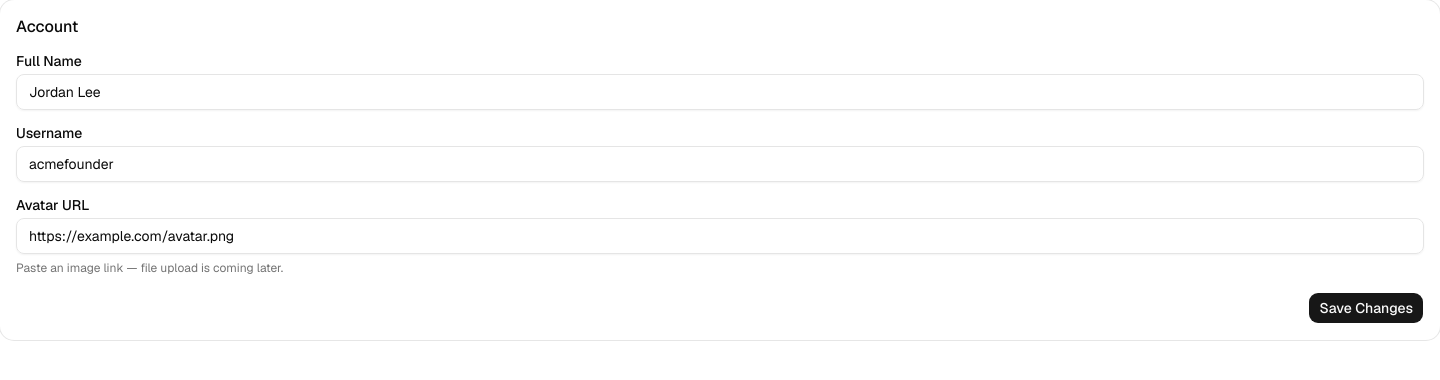
IndustryAccountSettingsForm › validates username format
Replace the text in the field labelled "Username" with "a!" at [720, 164], box [16,146,1424,182]
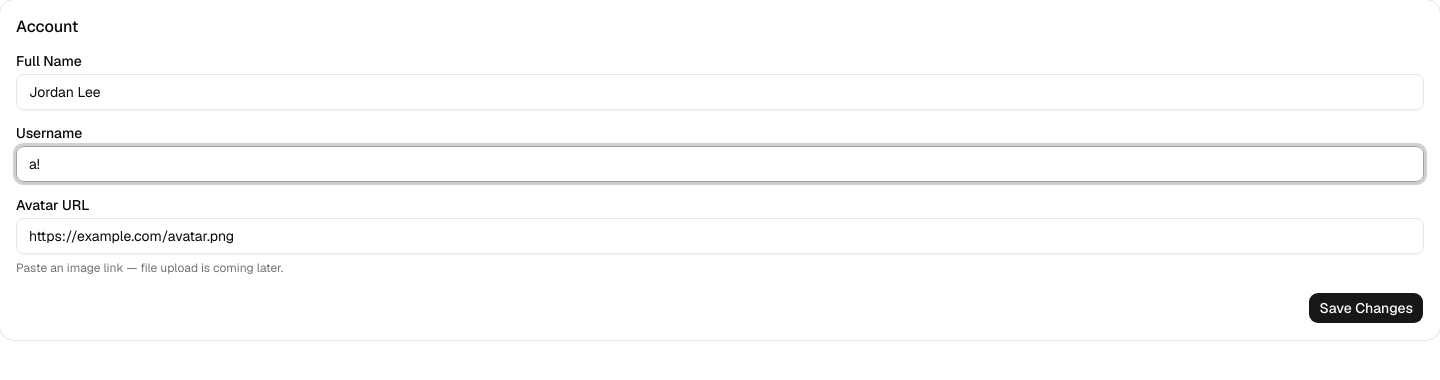
Click the button "Save Changes" at [1366, 308], box [1308,292,1424,324]
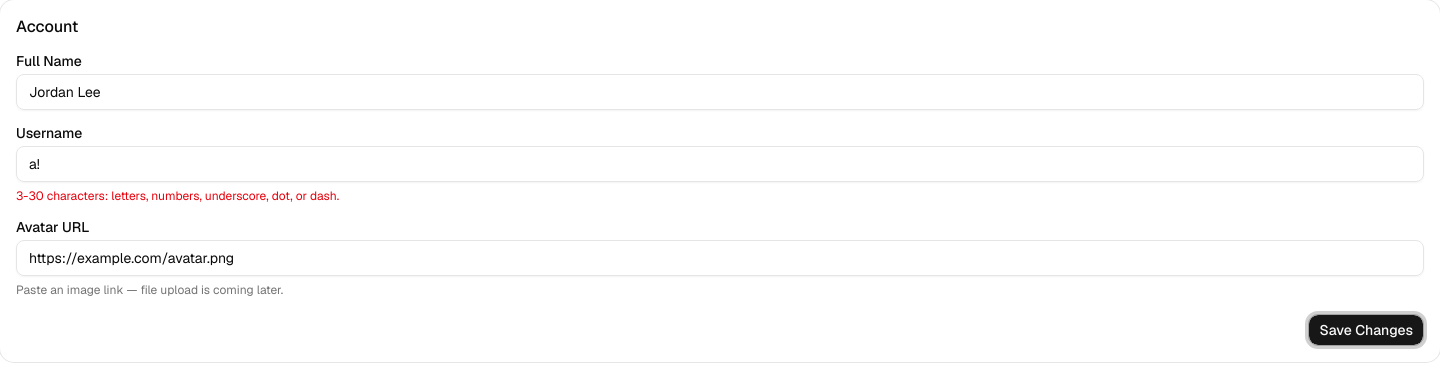
Expected: the text "3-30 characters: letters, numbers, underscore, dot, or dash." is shown, [16,188,339,204]
